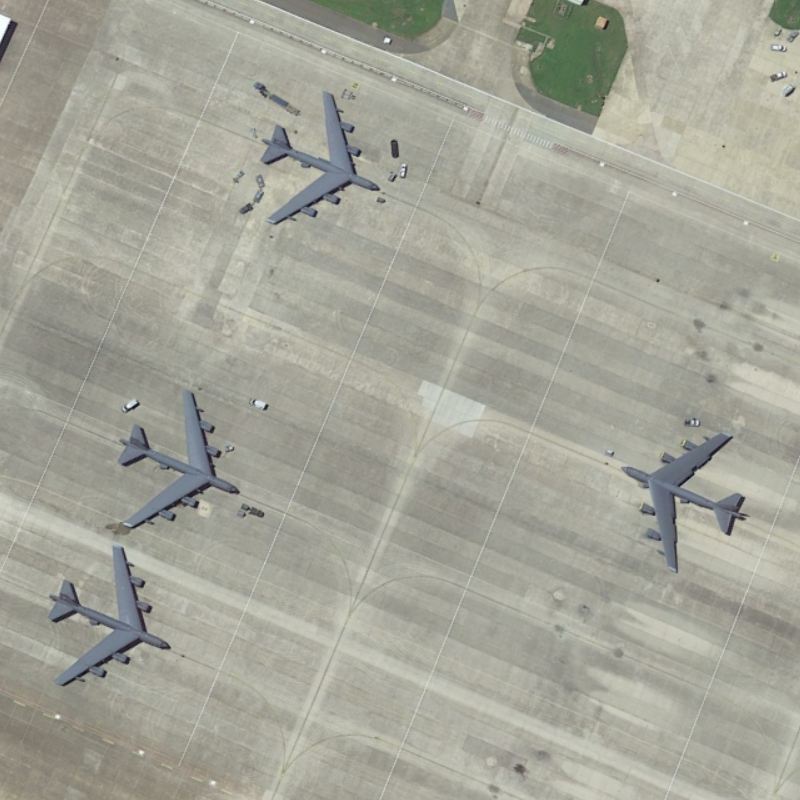A8: (610, 422, 753, 579), (248, 82, 390, 235), (38, 541, 176, 695), (110, 383, 249, 534)
